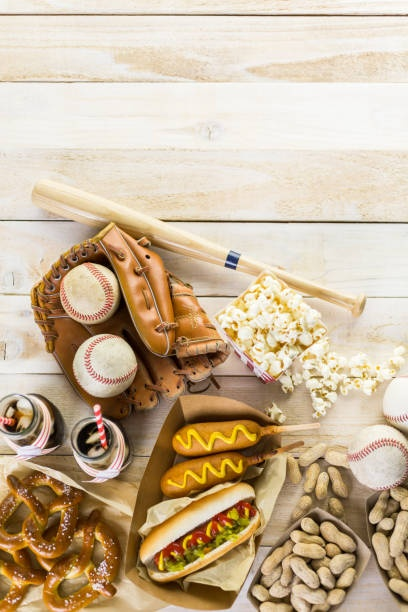bita: (29, 184, 364, 313)
